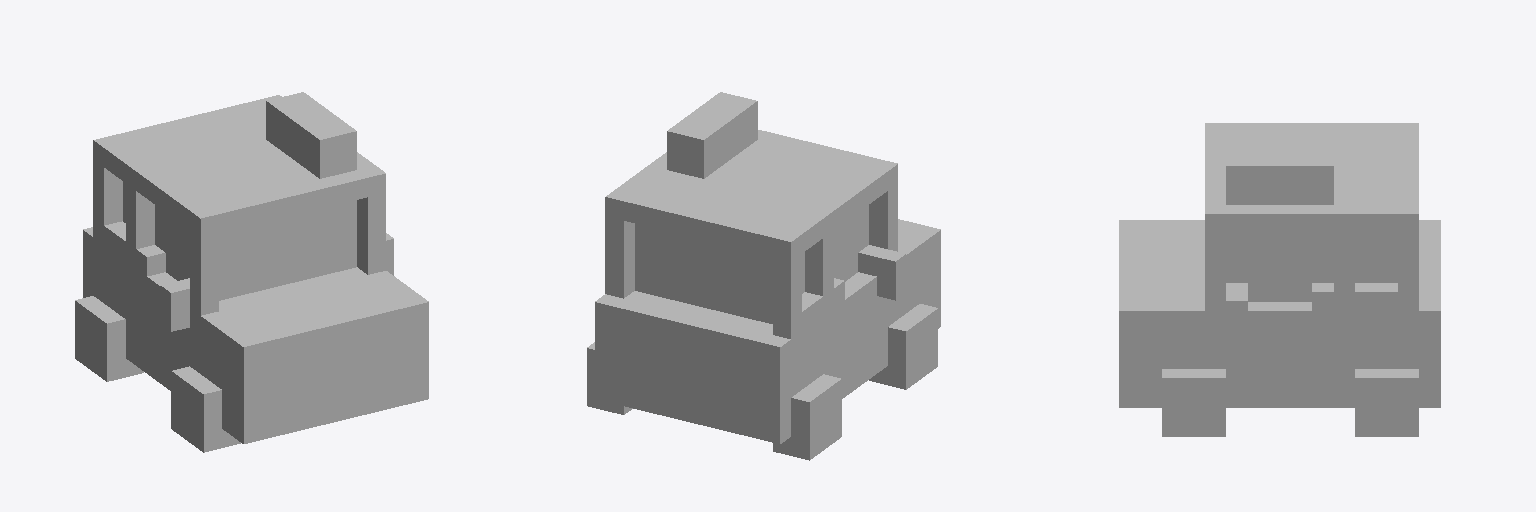
File: Voxel Design (Cars)-6.obj
The picture shows the model from 3 angles: view 1: azimuth 30°, elevation 25°; view 2: azimuth 150°, elevation 25°; view 3: azimuth 270°, elevation 25°; orthographic projection.
Parts seen in each view (by area): view 1: object 1; view 2: object 1; view 3: object 1.
Part boxes in pixels (x1,y1,x2,y2): object 1: (75, 92, 428, 452); object 1: (587, 92, 940, 460); object 1: (1119, 123, 1440, 436).
Bounding box in the file's own units: 1.2 × 1.3 × 1.5.